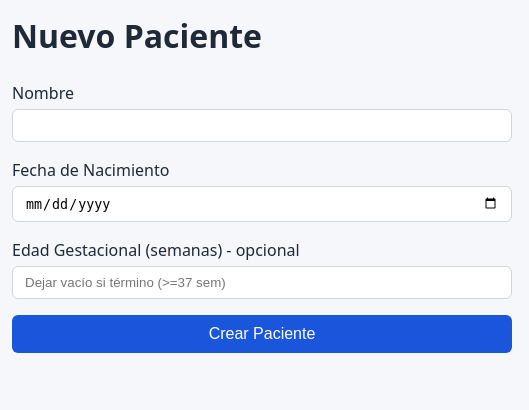
Test case: PatientCreatePage › muestra error cuando createPatient falla
The image size is (529, 410).
Type "Juan" into the field.
click(262, 126); type("Juan")  # box [12,109,512,142]
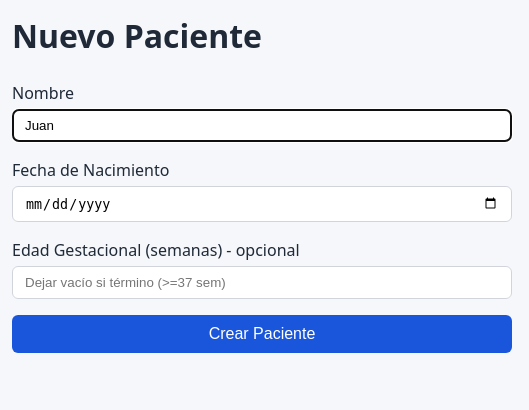
# Set date via fireEvent since userEvent has issues with date inputs
Type "2022-01-15" into the date field labelled "Fecha de Nacimiento".
click(262, 204); type("2022-01-15")  # box [12,186,512,222]
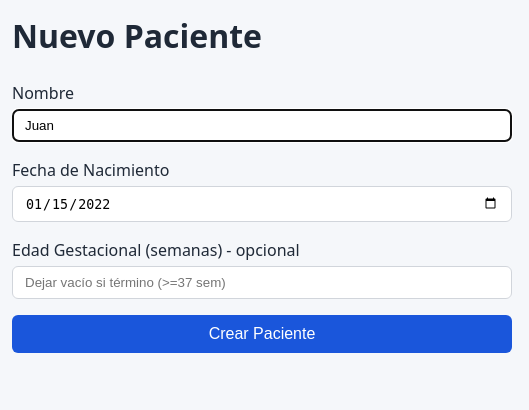
Click the button "Crear Paciente".
click(262, 334)  # box [12,315,512,353]
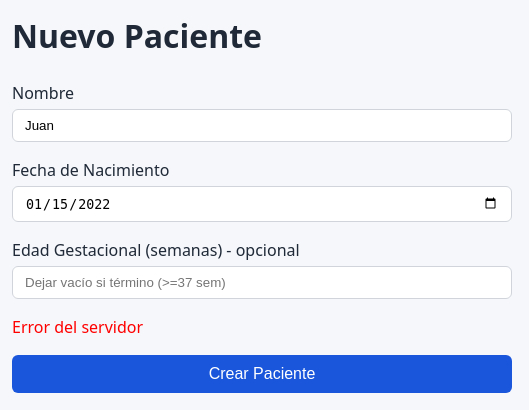
Expected: the text "Error del servidor" is shown, [12,316,143,338]
